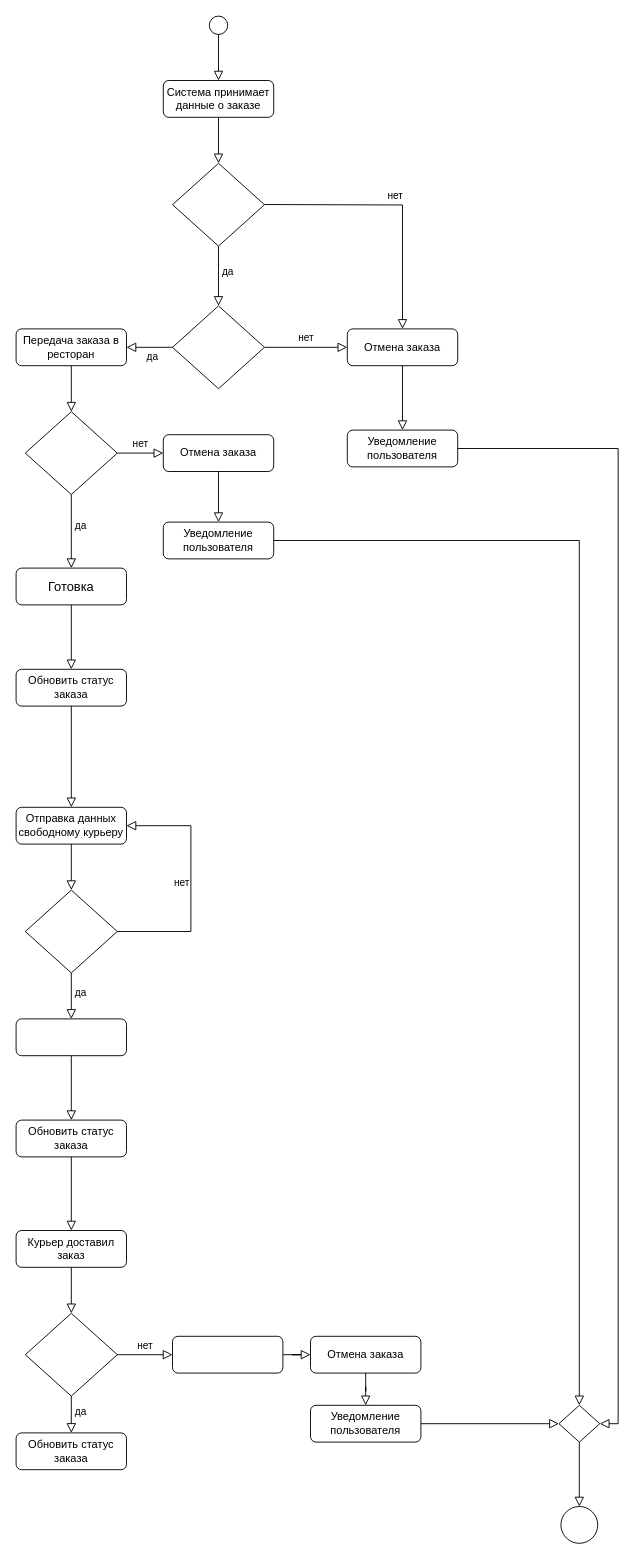
Some shapes in this 644 by 1559 pixel diagram are drawn without their labels. Each missing label, with the box of its shape:
Адрес находится в зоне доставки: (172, 162, 264, 246)
Курьер забрал заказ: (15, 1018, 126, 1056)
Курьер принял заказ: (24, 889, 117, 973)
Обратиться в службу технической поддержки: (172, 1335, 283, 1373)
Правильно введен способ оплаты: (172, 305, 264, 389)
Ресторан принял заказ: (24, 411, 117, 494)
Успешная оплата: (24, 1312, 117, 1396)
